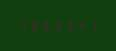eight: (28, 20, 38, 31)
four: (72, 20, 82, 31)
nine: (50, 20, 60, 31)
one: (83, 20, 93, 31)
seven: (17, 20, 27, 31)
six: (39, 20, 49, 31)
three: (61, 20, 71, 31)
